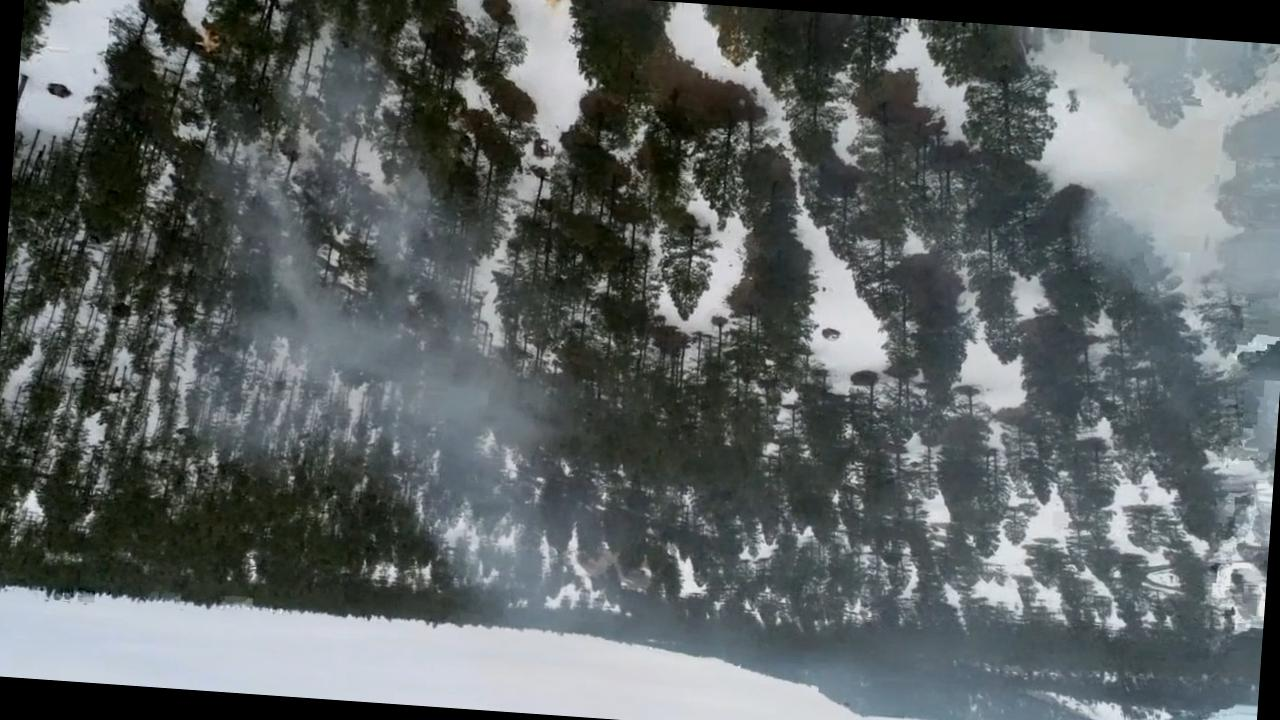smoke: (244, 88, 646, 628)
